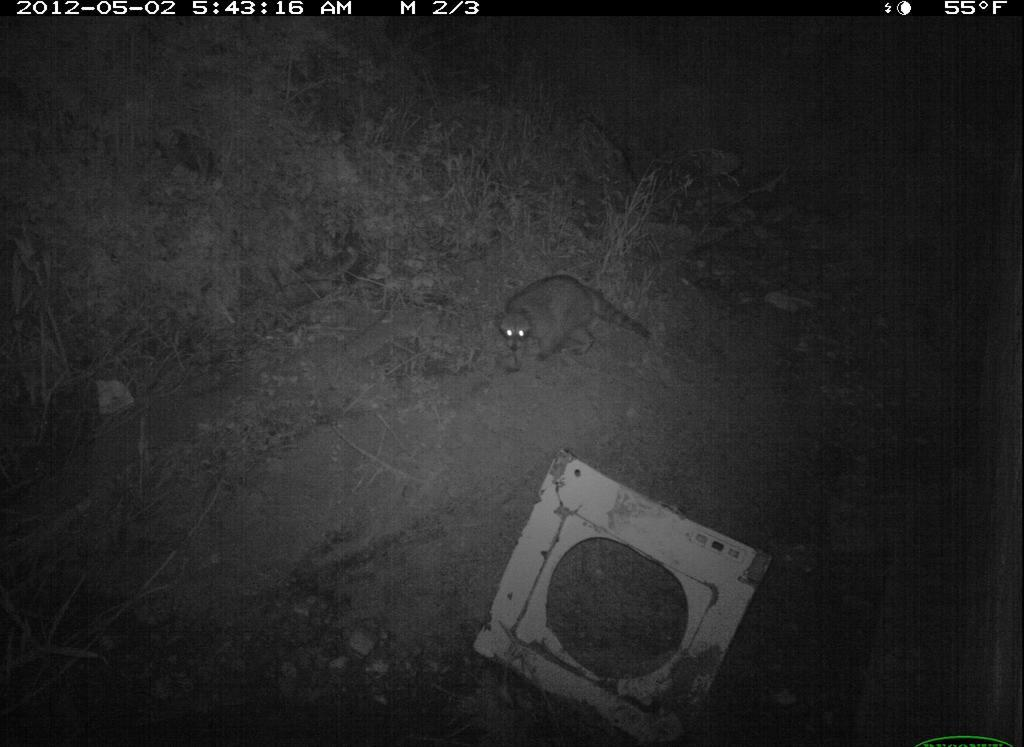raccoon: (492, 264, 665, 373)
